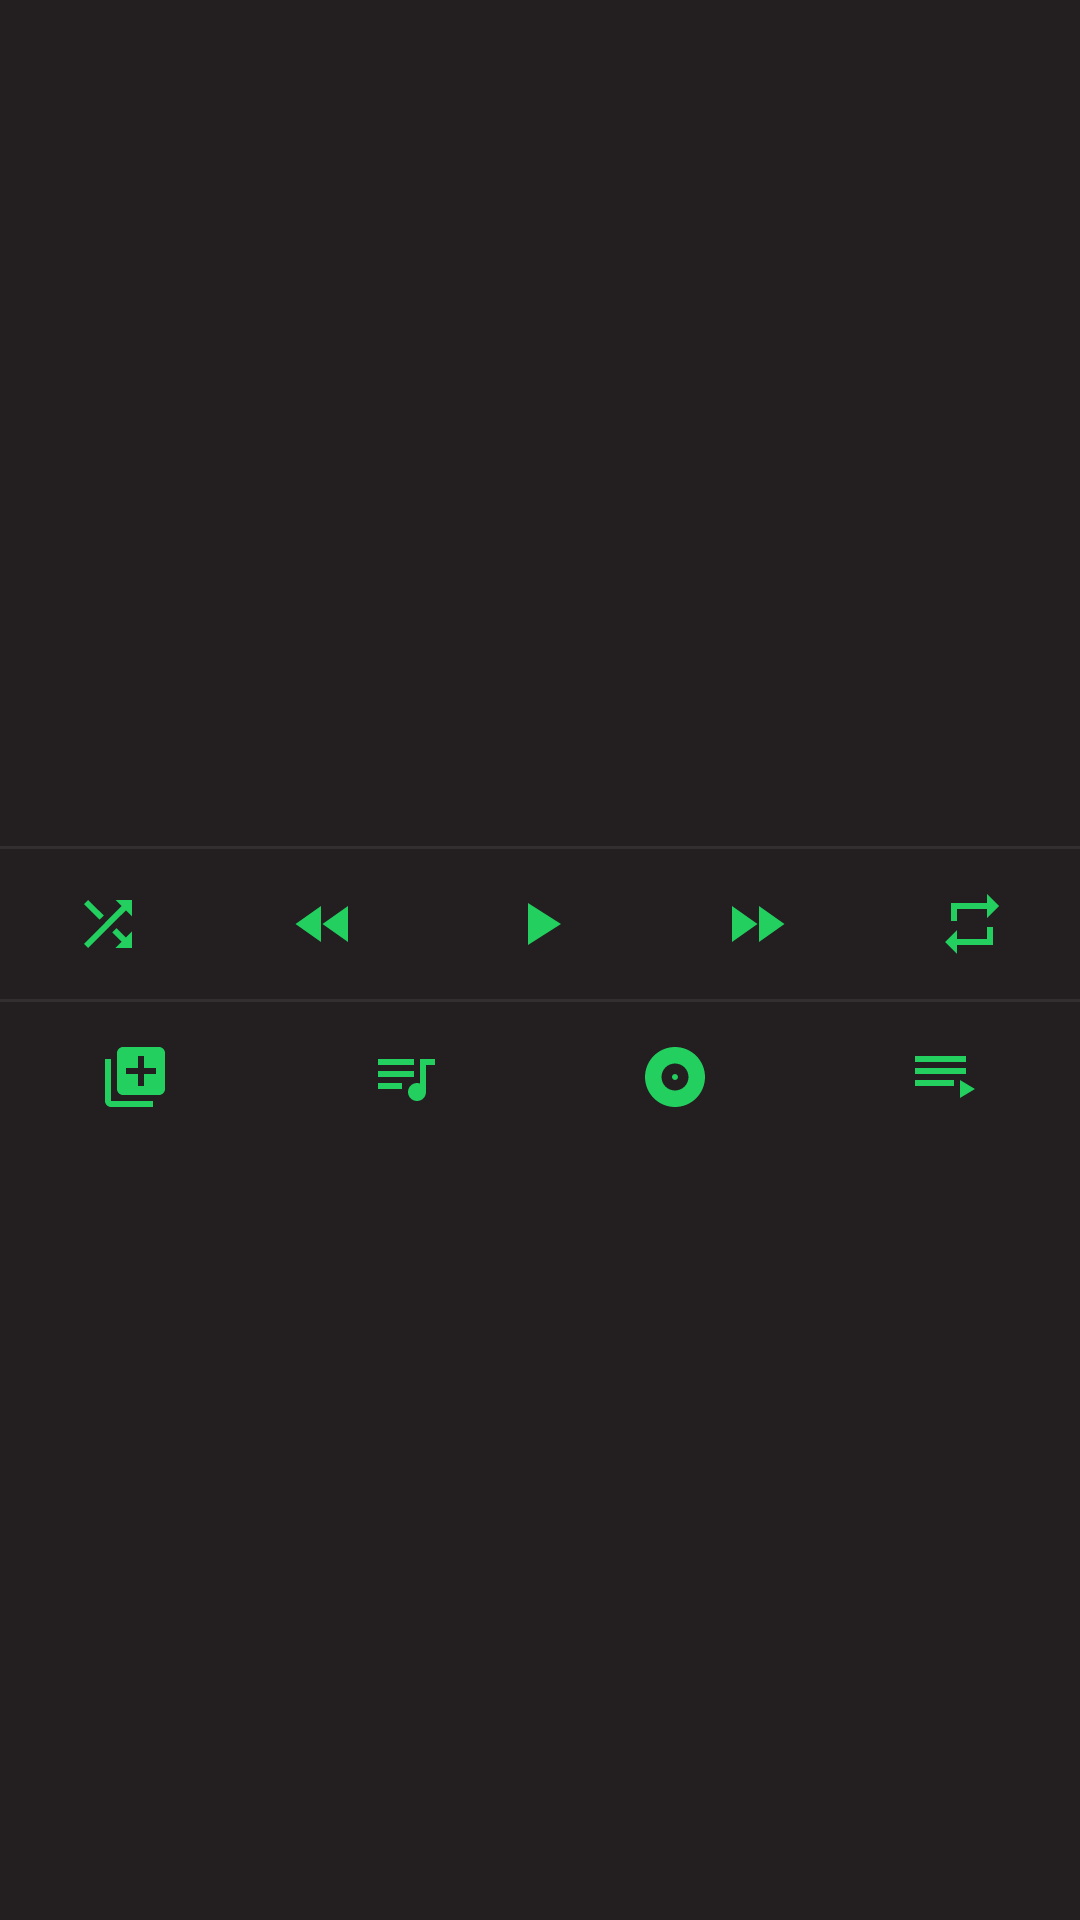

Point at icon controls on the screen. Image size 1080w x 1920h, points as (x=x, y=y).
album: (x=675, y=1077)
back: (x=322, y=924)
next: (x=758, y=924)
play: (x=544, y=924)
playlist: (x=945, y=1077)
repeat: (x=972, y=924)
shuffle: (x=108, y=924)
track: (x=406, y=1080)
